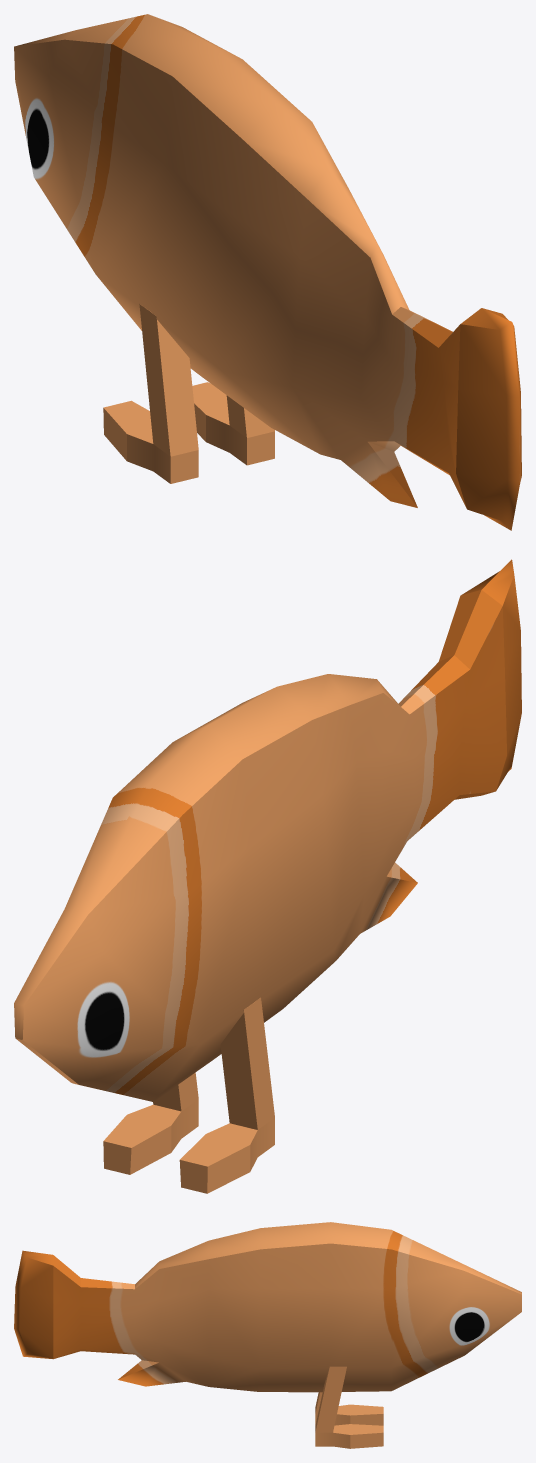
The model's file is GoldBungeo_fish.fbx.
The picture shows the model from 3 angles, top to bottom: view 1: azimuth 30°, elevation 25°; view 2: azimuth 150°, elevation 25°; view 3: azimuth 270°, elevation 25°; orthographic projection. The views are drawn at different scales.
Visible parts, largest first — view 1: Body; view 2: Body; view 3: Body.
Boxes of the visible parts, bbox=[...] form: Body: bbox=[14, 14, 521, 530]; Body: bbox=[14, 559, 521, 1193]; Body: bbox=[14, 1222, 521, 1448].
Bounding box in the file's own units: 103 × 334 × 728.
1 material, 1 textured.
